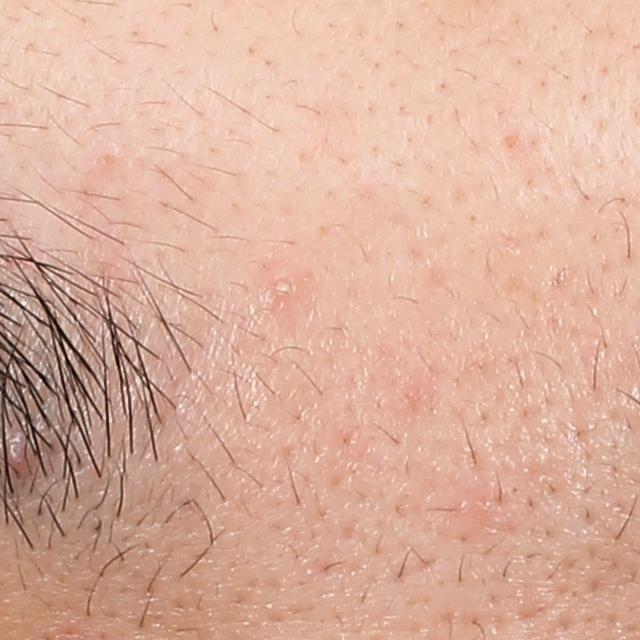pustule: (260, 263, 304, 307)
